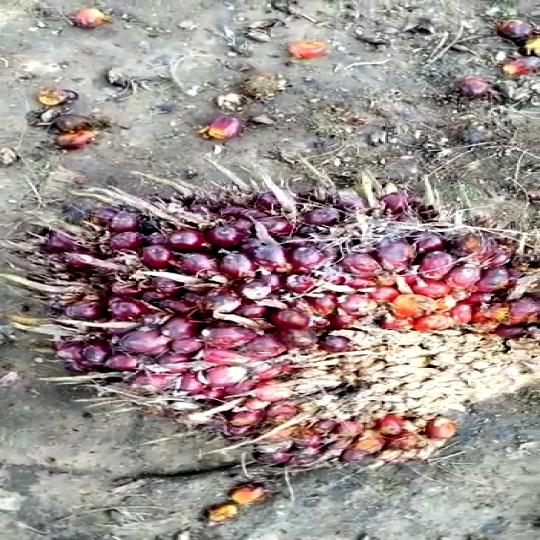masak: (1, 164, 540, 488)
